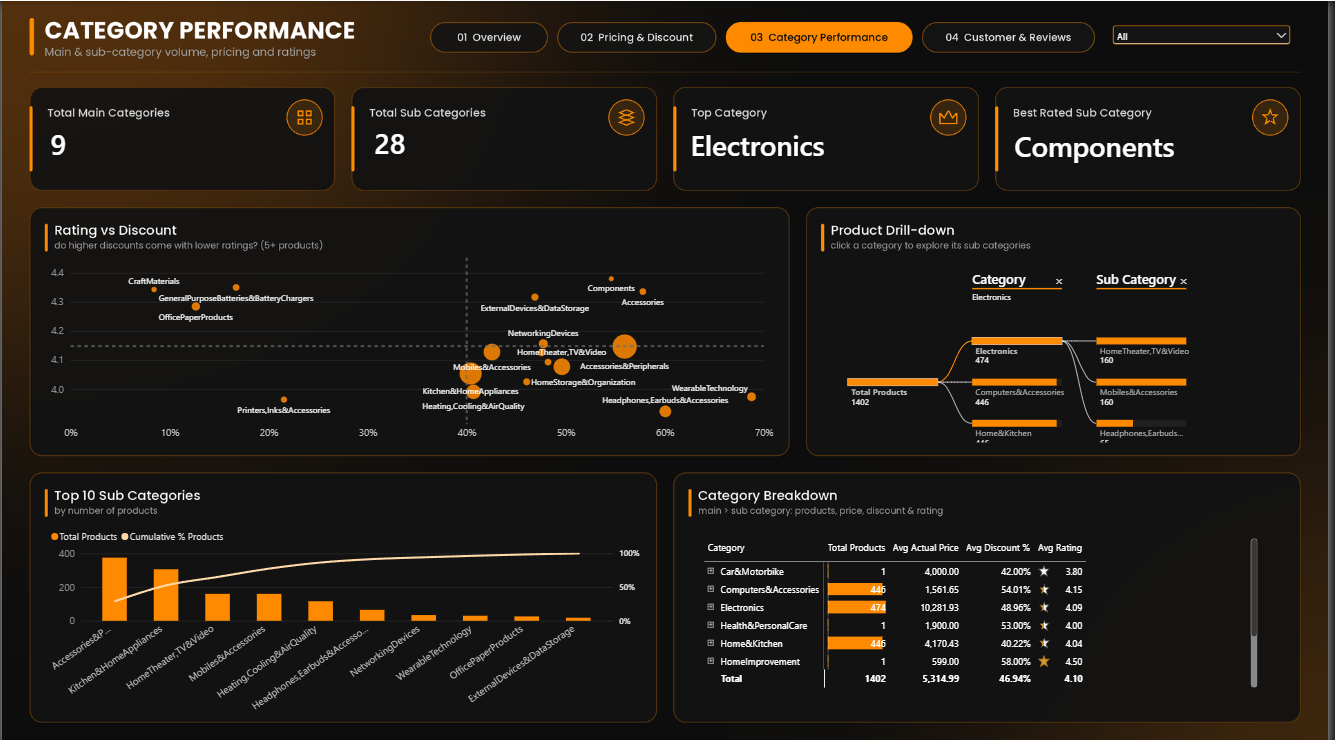

This screenshot's page, from the dashboard's own definition file:
{"tool":"powerbi","page":{"name":"Category Performance","canvas":[1920,1080],"ordinal":3},"visuals":[{"type":"cardVisual","fields":{"Data":["meseaur.Total Main Categories"]},"box":[54,150,221.7,113.3],"z":0},{"type":"cardVisual","fields":{"Data":["meseaur.Total Sub Categories"]},"box":[523.5,149,221.7,113.3],"z":1000},{"type":"cardVisual","fields":{"Data":["meseaur.Top Category"]},"box":[980,150,442,114],"z":2000},{"type":"cardVisual","fields":{"Data":["meseaur.Best Rated Sub Category"]},"box":[1450,152,442,114],"z":3000},{"type":"pivotTable","fields":{"Rows":["Dim_Category.Main Category","Dim_Category.category.2.1","Dim_Category.category.2.2.1"],"Values":["meseaur.Total Products","meseaur.Avg Actual Price","meseaur.Avg Discount %","meseaur.Avg Rating"]},"box":[1000.7,763.7,832.4,246.1],"z":4000},{"type":"decompositionTreeVisual","fields":{"Analyze":["meseaur.Total Products"],"ExplainBy":["Dim_Category.Main Category","Dim_Category.category.2.1"]},"box":[1183.5,371,676.8,284.1],"z":5000},{"type":"lineStackedColumnComboChart","fields":{"Category":["Dim_Category.Sub Category"],"Y":["meseaur.Total Products","meseaur.Total Products"],"Y2":["meseaur.Cumulative % Products"]},"box":[54.3,745.6,890.4,305.8],"z":6000},{"type":"scatterChart","fields":{"Category":["Dim_Category.Sub Category"],"Size":["meseaur.Total Products"],"X":["meseaur.Avg Discount %"],"Y":["meseaur.Avg Rating (5+ Products)"]},"box":[54.3,349.3,1078.6,305.8],"z":7000},{"type":"slicer","fields":{"Values":["Dim_Category.Main Category"]},"box":[1603.9,31.4,266.7,52.9],"z":8000},{"type":"actionButton","box":[629.8,30.8,161.1,39.8],"z":9000},{"type":"actionButton","box":[819.8,34.4,193.6,39.8],"z":10000},{"type":"actionButton","box":[1058.7,30.8,246.1,39.8],"z":11000},{"type":"actionButton","box":[1342.8,30.8,242.5,47.1],"z":12000}]}

Visuals, with their boxes in screenshot pixels (x1, y1, x2, y2), scaled from the page's 1920x1080 canvas onto the 1335x740 screenshot:
cardVisual - meseaur.Total Main Categories: <box>38,103,192,180</box>
cardVisual - meseaur.Total Sub Categories: <box>364,102,518,180</box>
cardVisual - meseaur.Top Category: <box>681,103,989,181</box>
cardVisual - meseaur.Best Rated Sub Category: <box>1008,104,1316,182</box>
pivotTable - Dim_Category.Main Category x Dim_Category.category.2.1: <box>696,523,1275,692</box>
decompositionTreeVisual - meseaur.Total Products x Dim_Category.Main Category: <box>823,254,1293,449</box>
lineStackedColumnComboChart - Dim_Category.Sub Category x meseaur.Total Products: <box>38,511,657,720</box>
scatterChart - Dim_Category.Sub Category x meseaur.Total Products: <box>38,239,788,449</box>
slicer - Dim_Category.Main Category: <box>1115,22,1301,58</box>
actionButton: <box>438,21,550,48</box>
actionButton: <box>570,24,705,51</box>
actionButton: <box>736,21,907,48</box>
actionButton: <box>934,21,1102,53</box>
